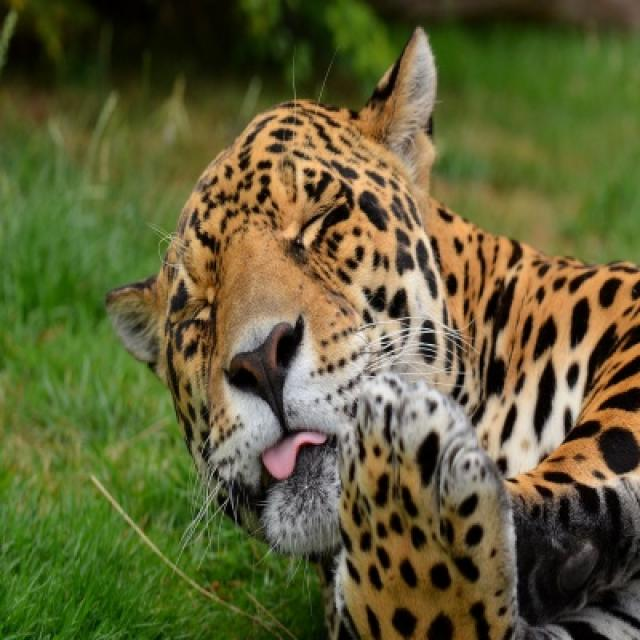Jaguar: (104, 29, 638, 638)
